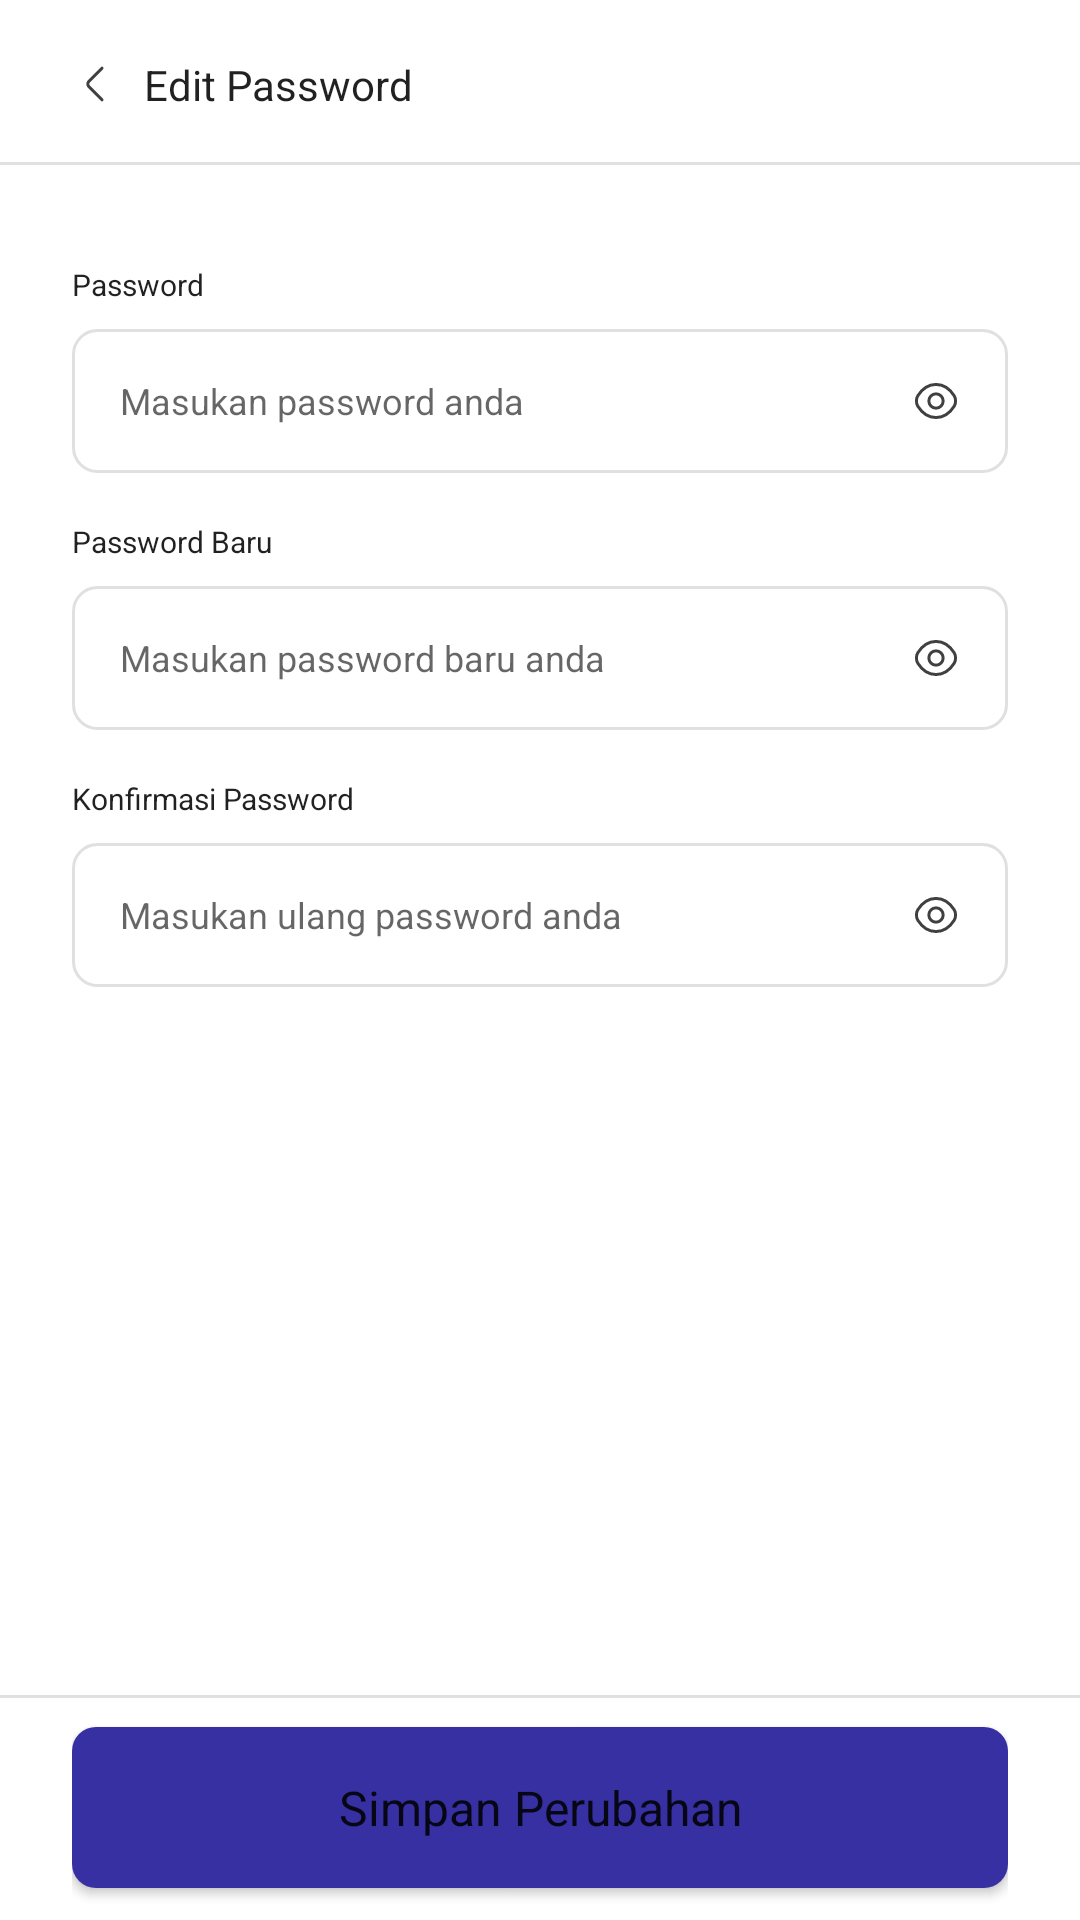

Locate icon controls on the screen. Image size 1080 × 1920, boxes as [x1=x1, y1=y1, x2=x2, y2=y2].
arrow left: [x1=86, y1=66, x2=104, y2=102]
eye: [x1=915, y1=383, x2=957, y2=419], [x1=915, y1=640, x2=957, y2=676], [x1=915, y1=897, x2=957, y2=933]
